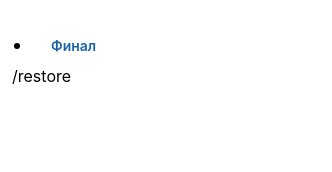
RestoreGame › восстанавливает сохранение и переходит к игре
This screenshot has width=332, height=172.
Click the button "Финал": (74, 46) x1=32 y1=28 x2=115 y2=64
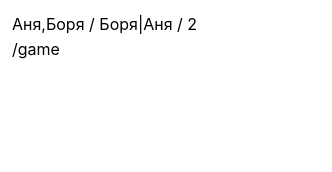
Expected: the text with test id "location" reads "/game", x1=12 y1=39 x2=60 y2=59
Expected: the text with test id "game-state" reads "Аня,Боря / Боря|Аня / 2", x1=12 y1=14 x2=197 y2=34
